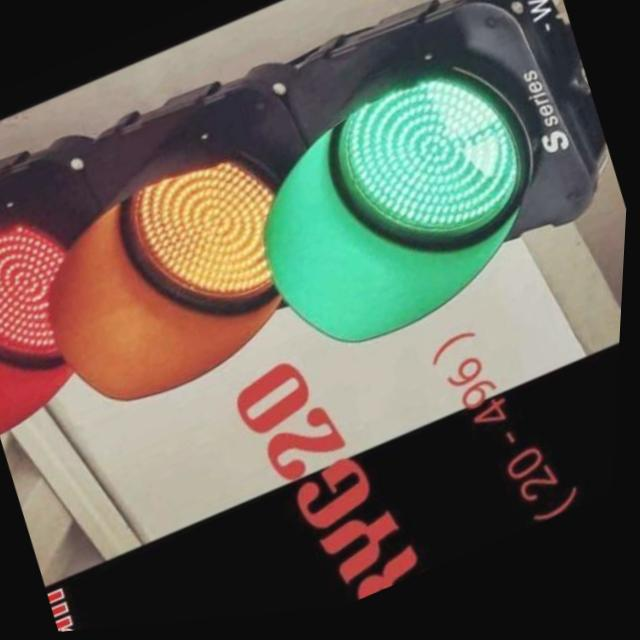Hijau: (322, 54, 540, 279)
Kuning: (115, 137, 305, 339)
Merah: (0, 200, 99, 388)
